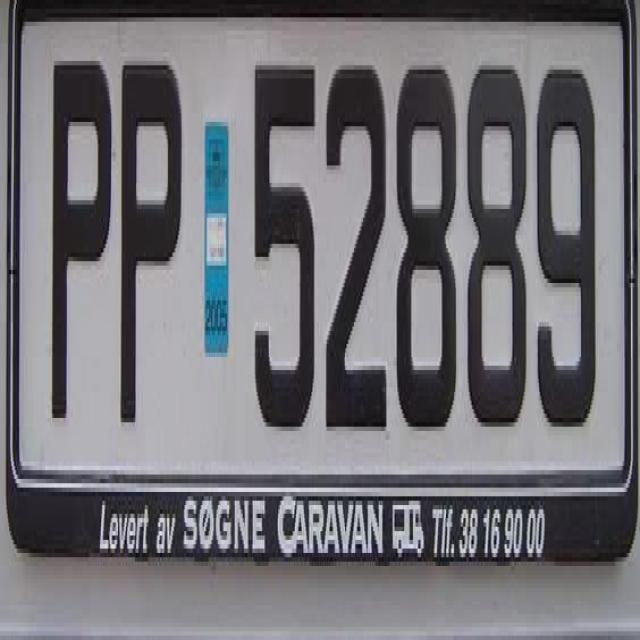Autre: (13, 8, 627, 464)
